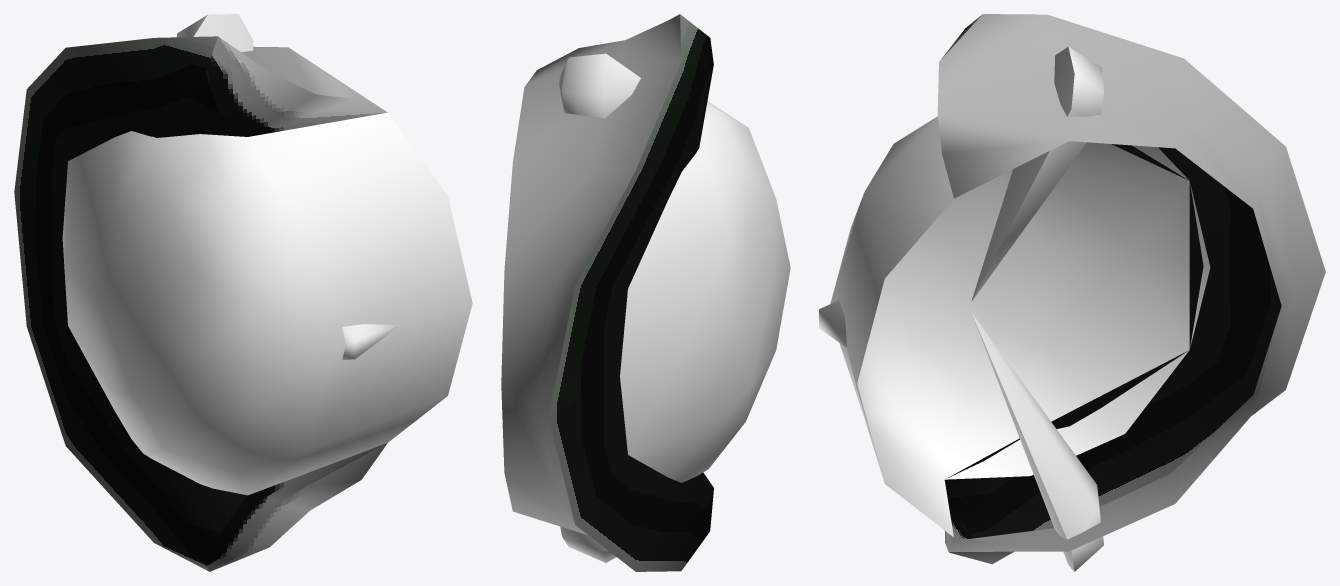
The model's file is girl01b.dae.
3 renders of one model, left to right at view 1: azimuth 30°, elevation 25°; view 2: azimuth 150°, elevation 25°; view 3: azimuth 270°, elevation 25°, orthographic. The views are drawn at different scales.
Visible parts, largest first — view 1: girl01b; view 2: girl01b; view 3: girl01b.
Part boxes in pixels (<box>): girl01b: <box>14,14,472,571</box>; girl01b: <box>501,14,790,571</box>; girl01b: <box>819,14,1325,571</box>.
Bounding box in the file's own units: 15.5 × 28.44 × 23.65.
3 materials, 1 textured.
